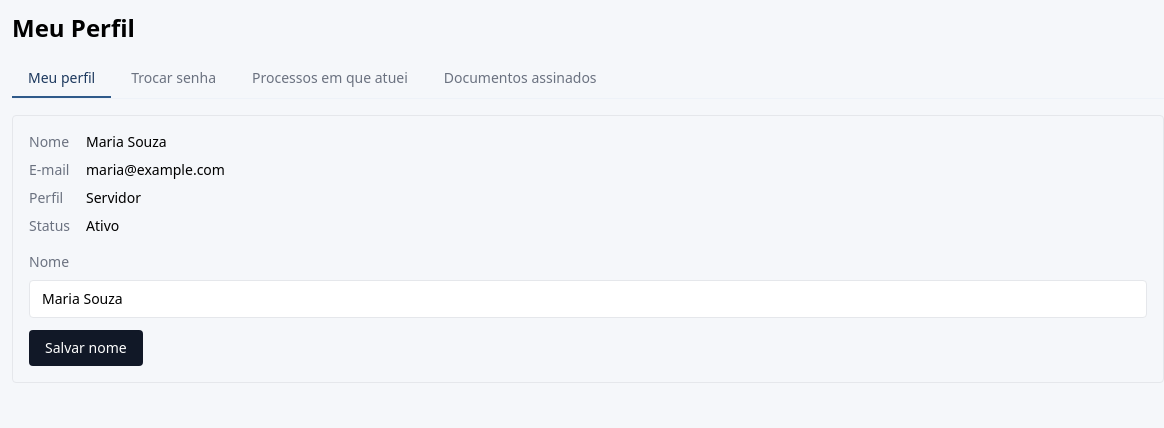
PerfilPage — editar o próprio nome (US 1.5) › exibe o erro de validação retornado pela API e mantém o nome anterior
This screenshot has width=1164, height=428.
Replace the text in the field labelled "Nome" with "X" at (588, 299), box 29,280 -> 1147,318
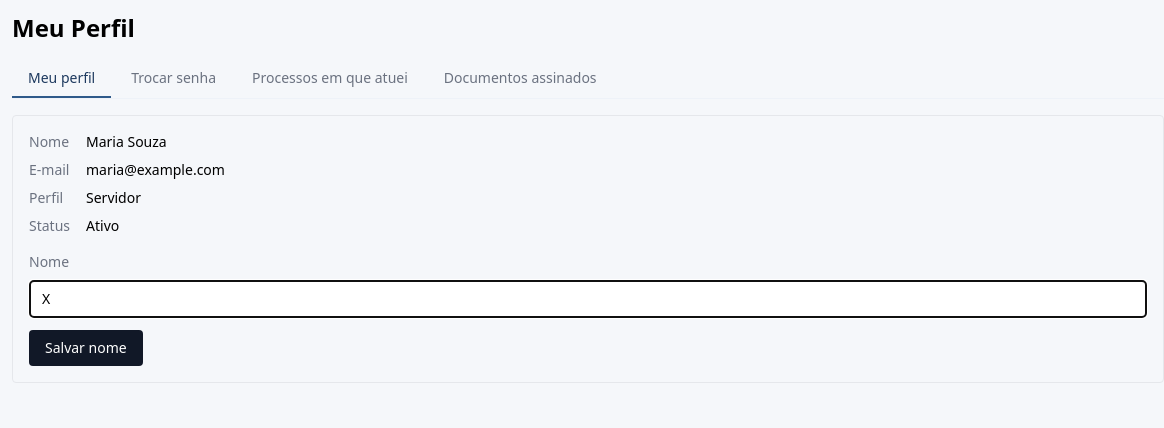
Clear the field labelled "Nome" at (588, 299), box 29,280 -> 1147,318
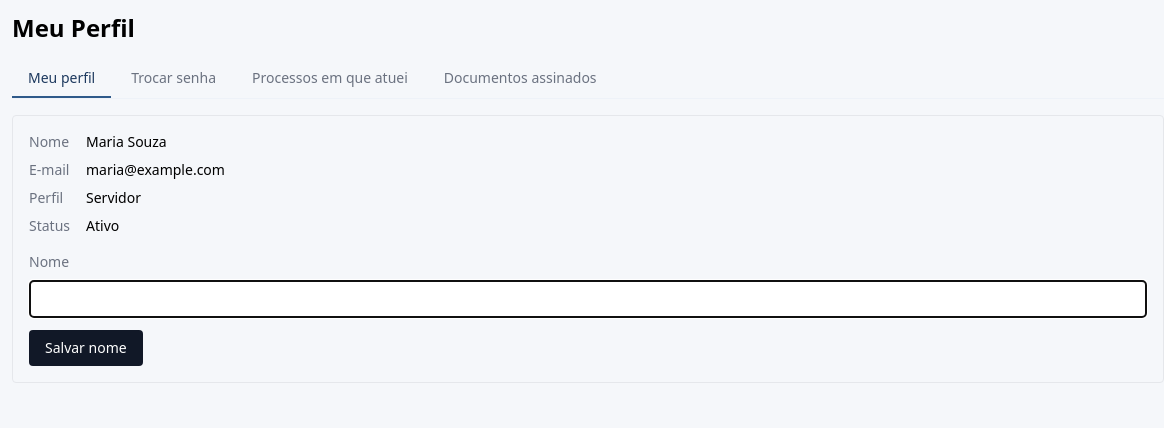
Click the button "Salvar nome" at (86, 348), box 29,330 -> 143,366
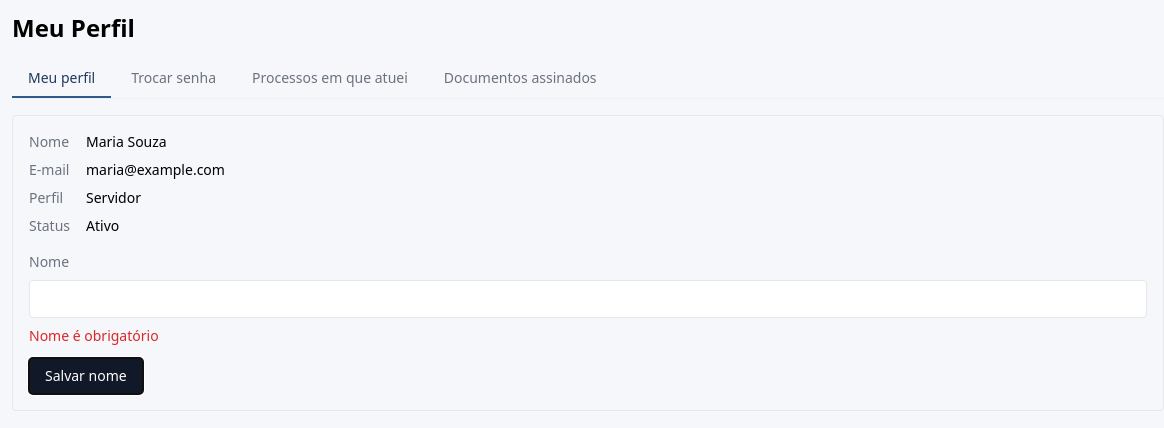
Expected: the text "Nome é obrigatório" is shown, 29,326 -> 159,345
